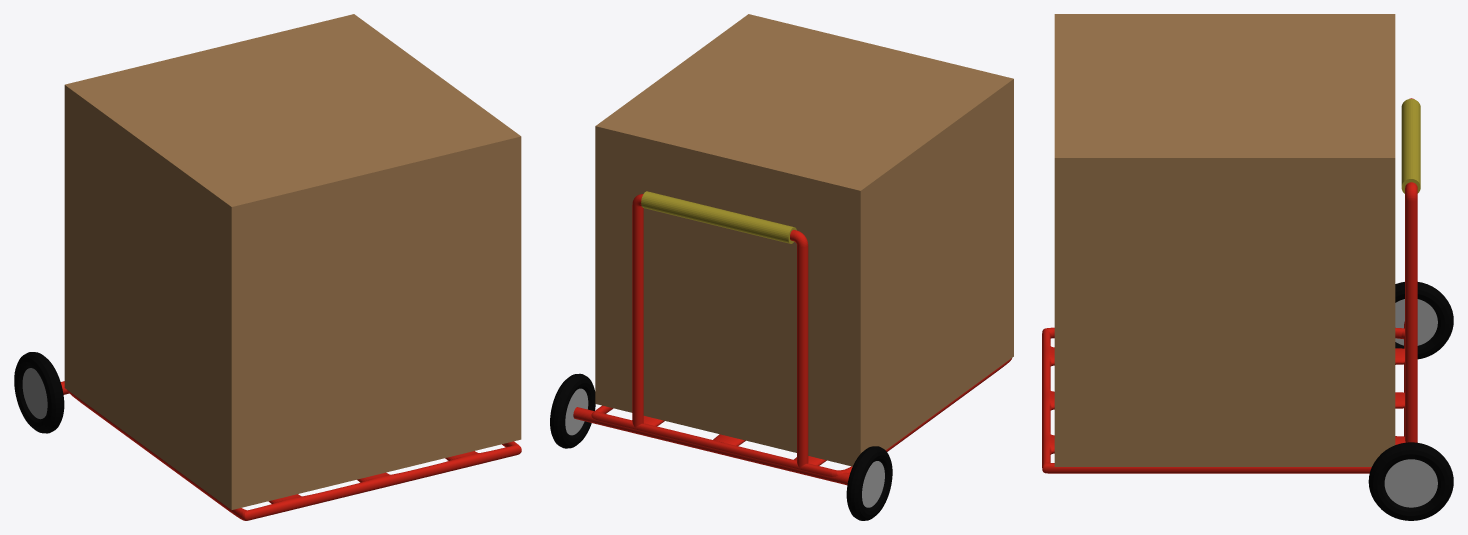
Rendered from ObstacleTrolley.fbx.
3 renders of one model, left to right at view 1: azimuth 30°, elevation 25°; view 2: azimuth 150°, elevation 25°; view 3: azimuth 270°, elevation 25°, orthographic. The views are drawn at different scales.
Parts seen in each view (by area): view 1: Cube.001, Cube, Torus; view 2: Cube.001, Cube, Cylinder.001, Cylinder.002, Cylinder, Torus, Torus.001, Cylinder.003; view 3: Cube.001, Torus.001, Cube, Cylinder, Torus, Cylinder.002.
Part boxes in pixels (left/top/right/bottom): Cube.001: left=64, top=14, right=521, bottom=509; Cube: left=67, top=390, right=521, bottom=520; Torus: left=14, top=352, right=64, bottom=433; Cube.001: left=595, top=14, right=1013, bottom=466; Cube: left=591, top=358, right=1011, bottom=476; Cylinder.001: left=790, top=229, right=808, bottom=467; Cylinder.002: left=641, top=191, right=796, bottom=243; Cylinder: left=632, top=194, right=643, bottom=427; Torus: left=846, top=446, right=892, bottom=520; Torus.001: left=550, top=373, right=595, bottom=448; Cylinder.003: left=573, top=407, right=849, bottom=485; Cube.001: left=1054, top=14, right=1395, bottom=466; Torus.001: left=1368, top=442, right=1453, bottom=520; Cube: left=1042, top=327, right=1405, bottom=473; Cylinder: left=1405, top=182, right=1417, bottom=442; Torus: left=1395, top=282, right=1453, bottom=359; Cylinder.002: left=1401, top=99, right=1420, bottom=193.
Bounding box in the file's own units: 210 × 206 × 217.
